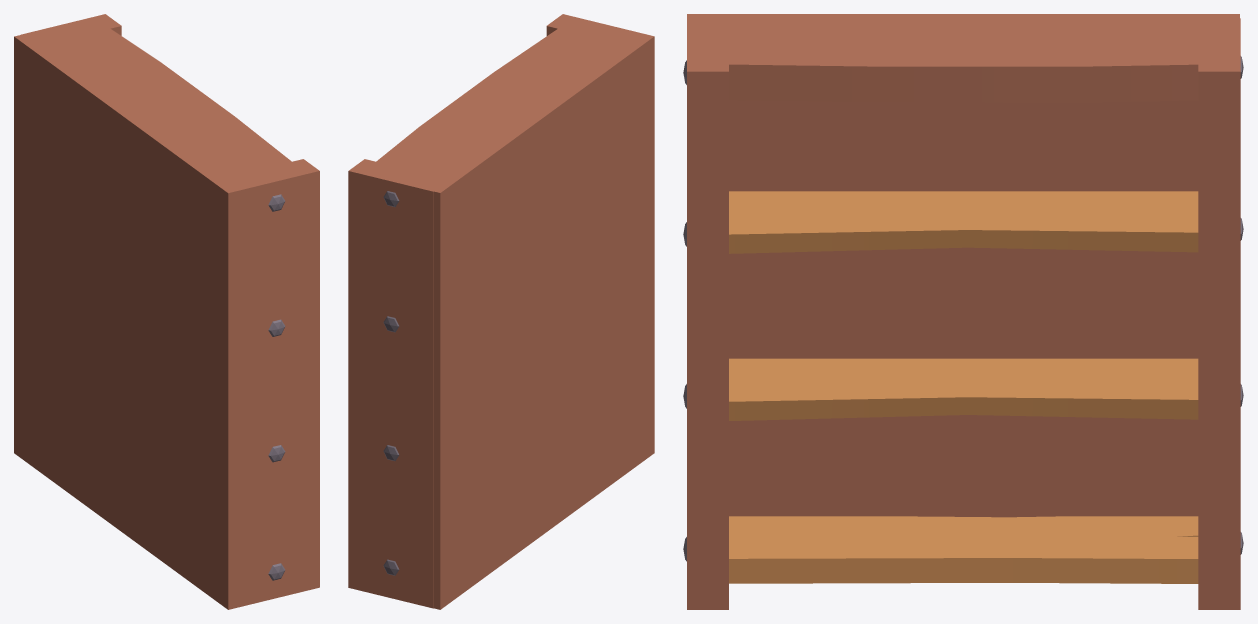
The model's file is bookcase.fbx.
3 renders of one model, left to right at view 1: azimuth 30°, elevation 25°; view 2: azimuth 150°, elevation 25°; view 3: azimuth 270°, elevation 25°, orthographic. The views are drawn at different scales.
Visible parts, largest first — view 1: polySurface115; view 2: polySurface115; view 3: polySurface115.
Boxes of the visible parts, x1,y1,x2,y2 form: polySurface115: [14, 14, 319, 609]; polySurface115: [348, 14, 654, 609]; polySurface115: [683, 14, 1243, 609].
Bounding box in the file's own units: 0.3676 × 1.6 × 1.51.
